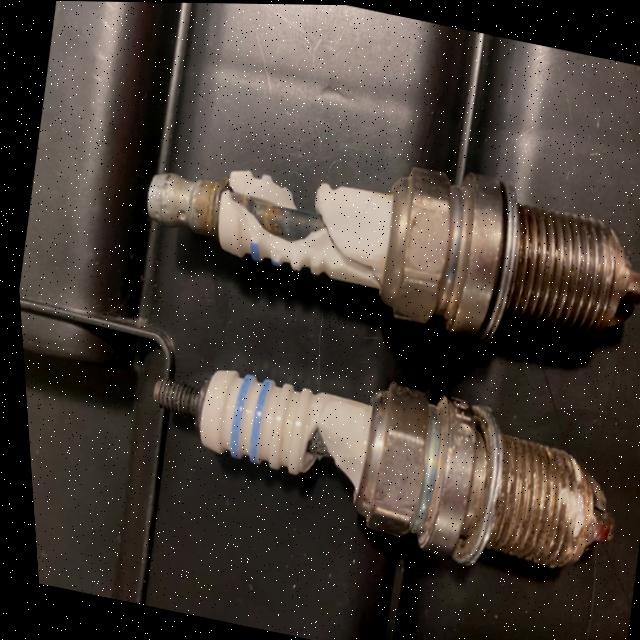damaged_spark-plug: (112, 71, 640, 386), (107, 348, 625, 582)
